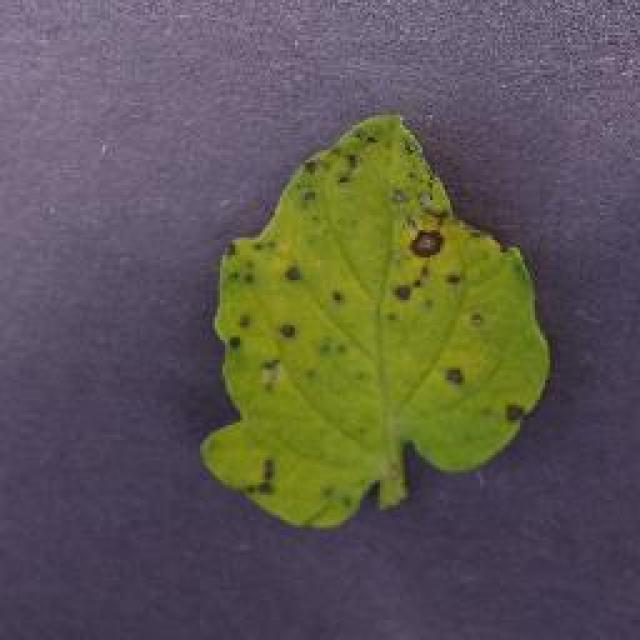Tomato___Septoria_leaf_spot: (200, 115, 548, 525)
